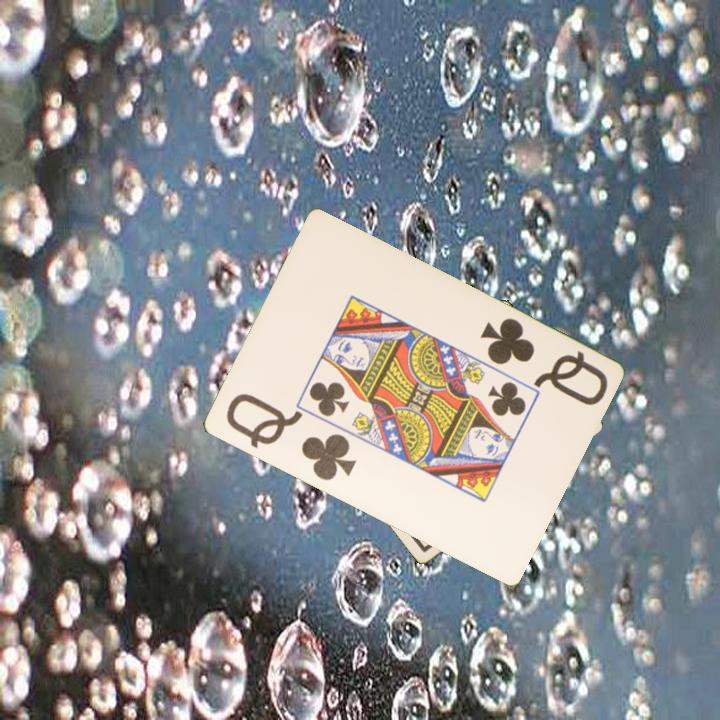Qc: (222, 390, 359, 484), (476, 314, 611, 409)
